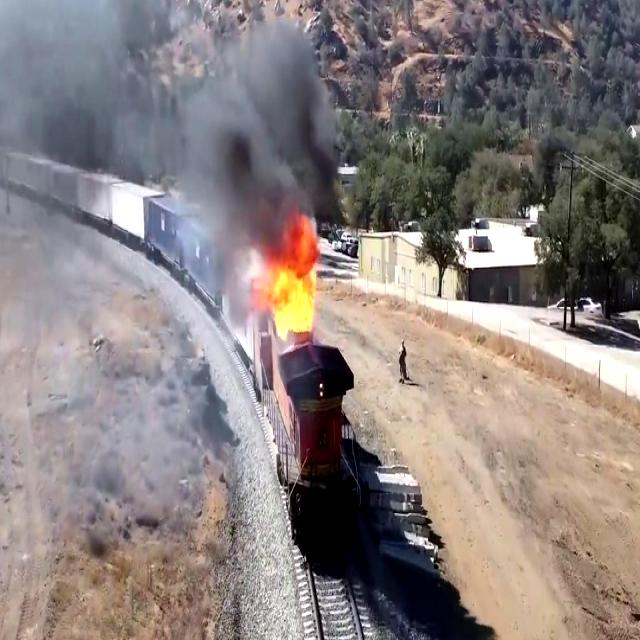fire: (269, 217, 331, 368)
smoke: (187, 3, 329, 230)
